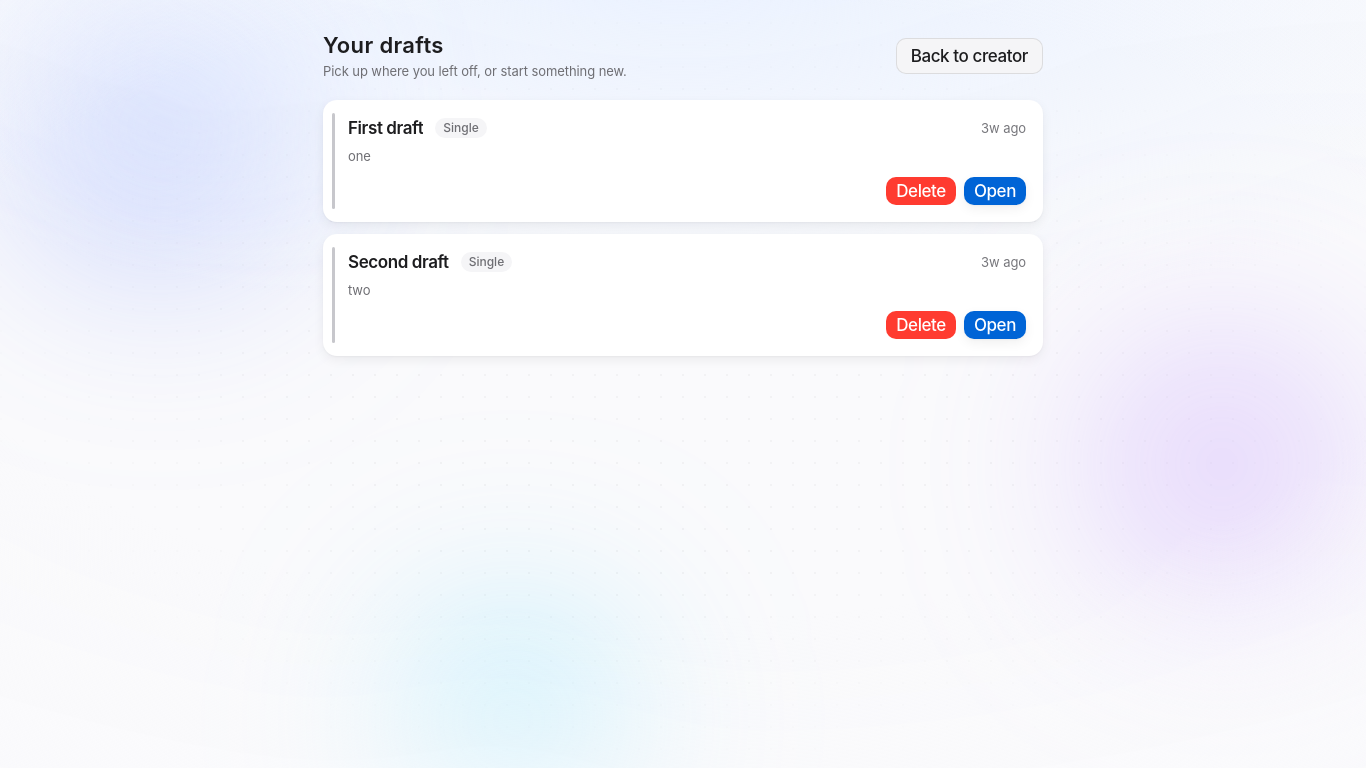
DraftsDashboard › delete flow: confirm popover → DELETE request → card removed without a refetch
Expected: the link "First draft" is shown, [348, 118, 423, 138]
Delete the first card via its confirm popover.
Click the 1st button "Delete". click: (921, 190)
box: [886, 176, 956, 204]
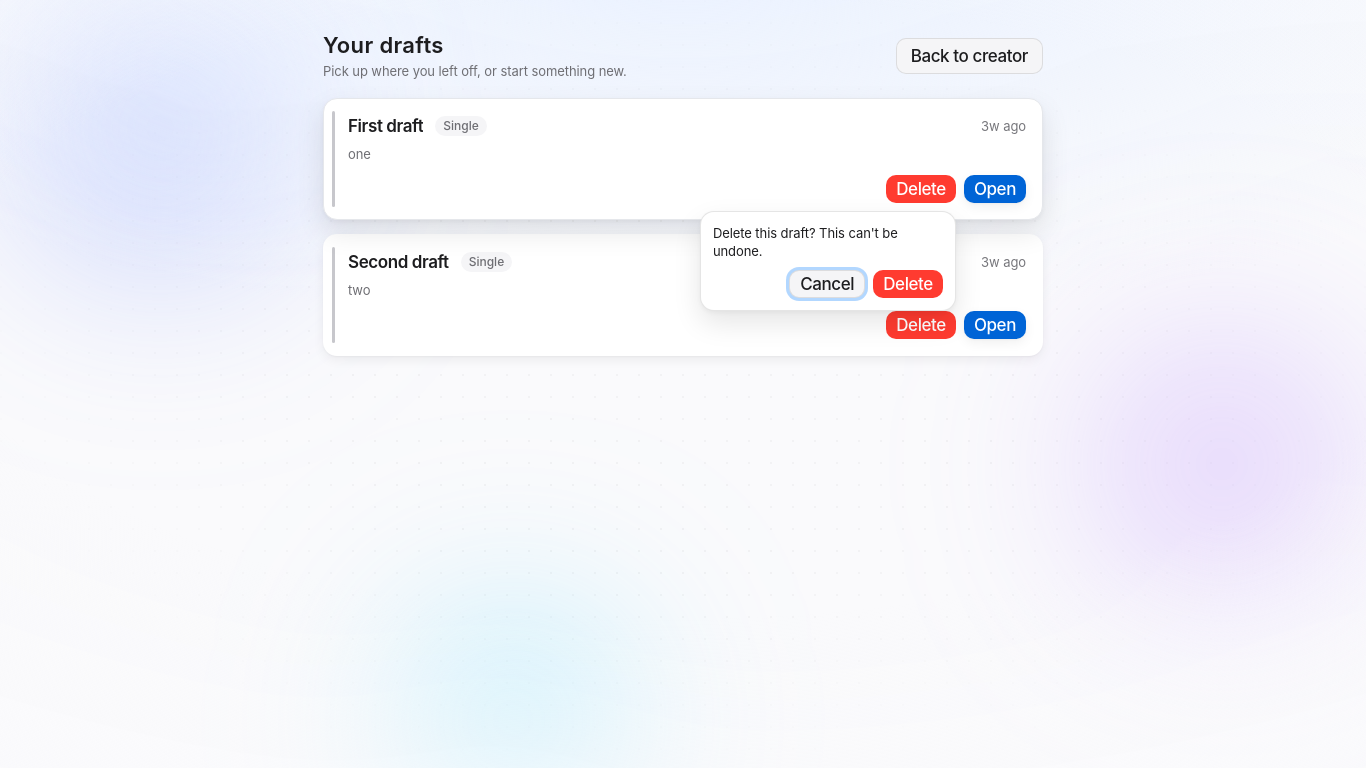
Click the button "Delete" below "Delete this draft? This can't be undone.". click: (908, 284)
box: [873, 270, 943, 298]
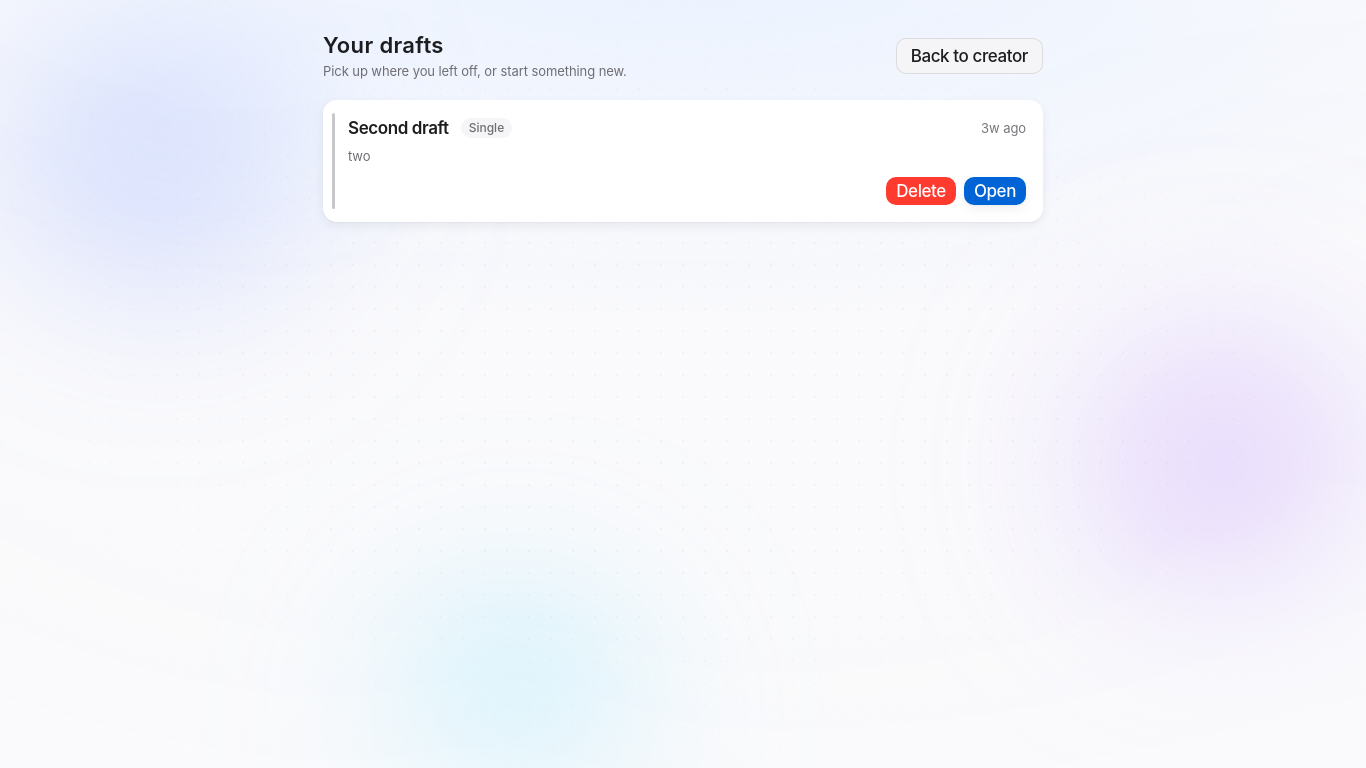
Expected: the link "Second draft" is shown, [348, 118, 449, 138]
Expected: the link "First draft" is gone
